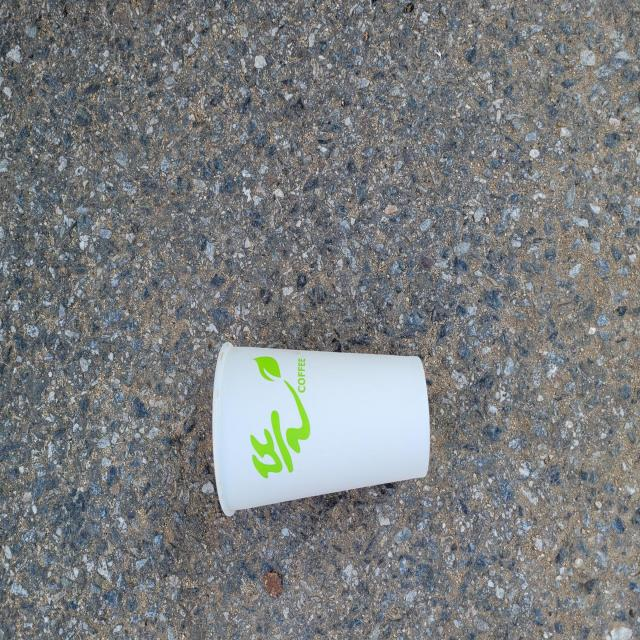paperpack: (212, 343, 431, 516)
